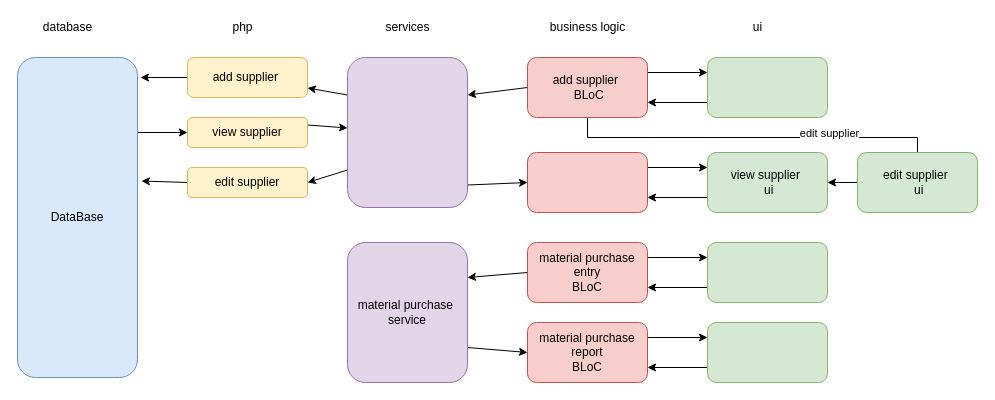
Image size: 995x400. Some labels were removed from this diagram. The shapes that lost their labels are listed below. From the top down, each one's centre as x and y in pixels, then its label:
[767,87]: add supplier ui
[407,132]: supplier service
[587,182]: view supplier BLoC
[767,272]: material purchase entry ui
[767,352]: material purchase report ui
